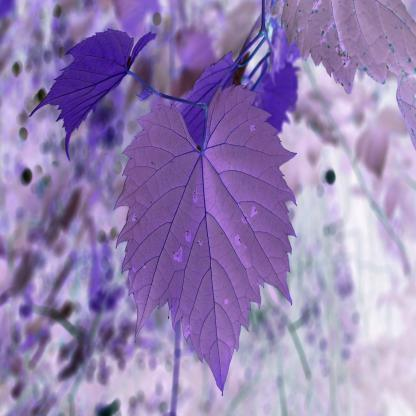grape leaf black rot: (107, 86, 309, 390), (29, 27, 160, 164)
